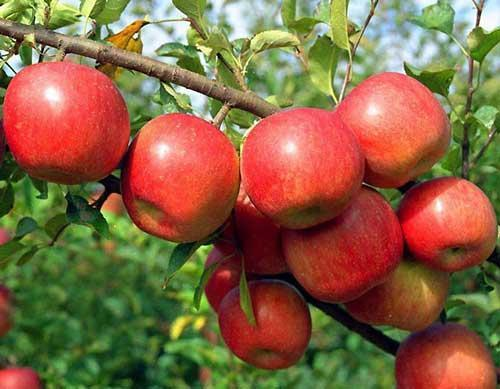apple: (237, 105, 363, 231), (1, 65, 131, 187), (121, 117, 242, 247), (280, 185, 403, 301), (334, 70, 449, 188), (396, 174, 498, 274), (213, 278, 313, 370), (342, 258, 448, 332), (392, 324, 497, 387)
